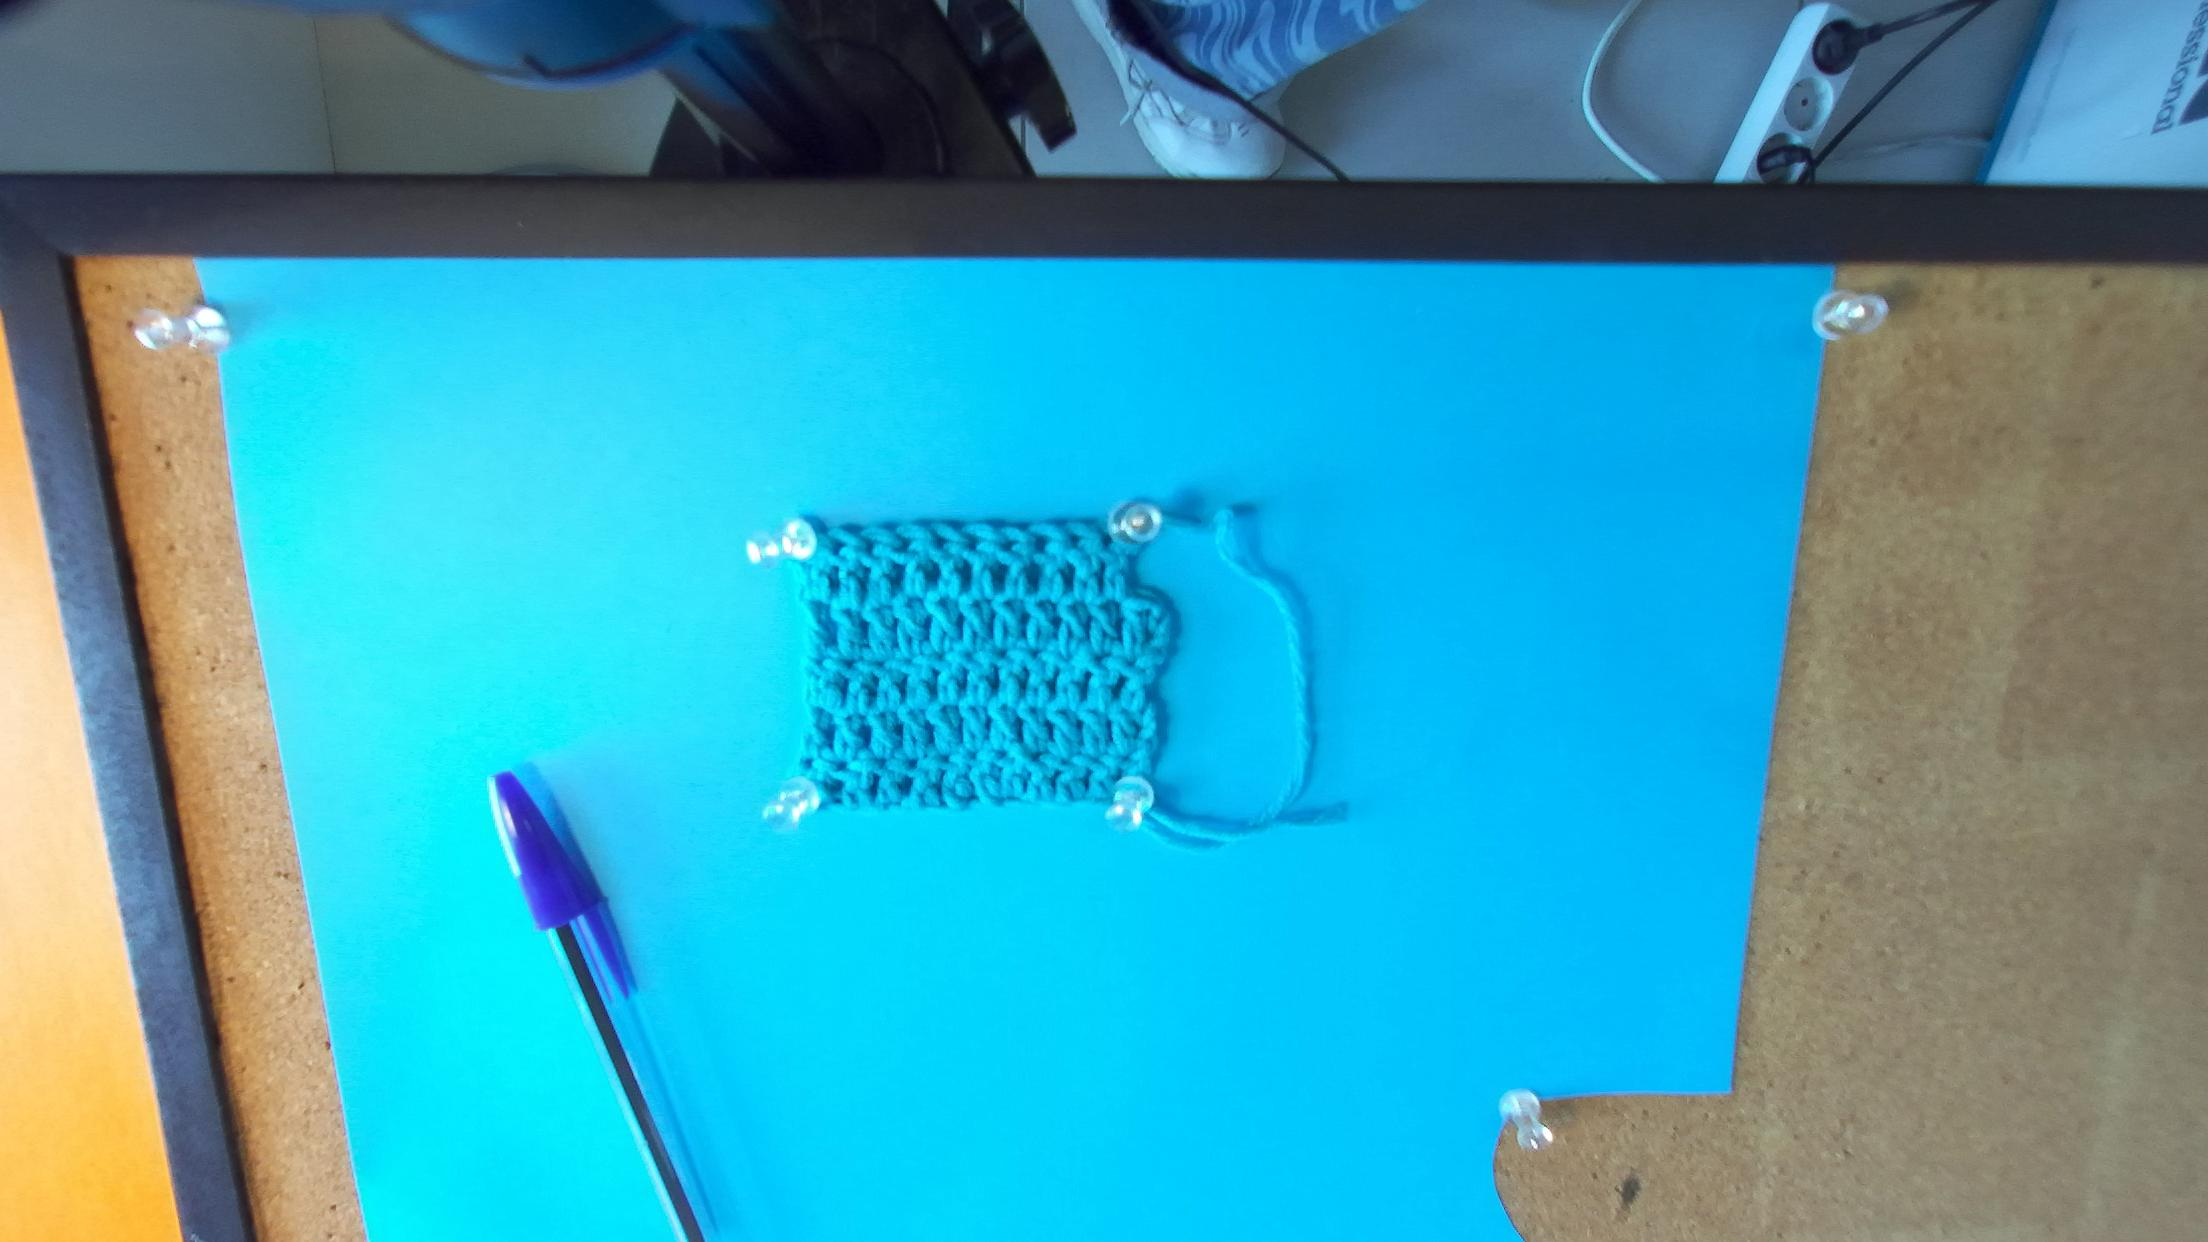hole: (861, 537, 880, 557), (893, 537, 914, 554), (960, 534, 983, 549), (830, 538, 848, 555), (1033, 535, 1049, 554), (1068, 532, 1084, 549), (996, 540, 1019, 552), (931, 535, 949, 549), (1099, 532, 1112, 549)
swatch: (779, 510, 1178, 816)
